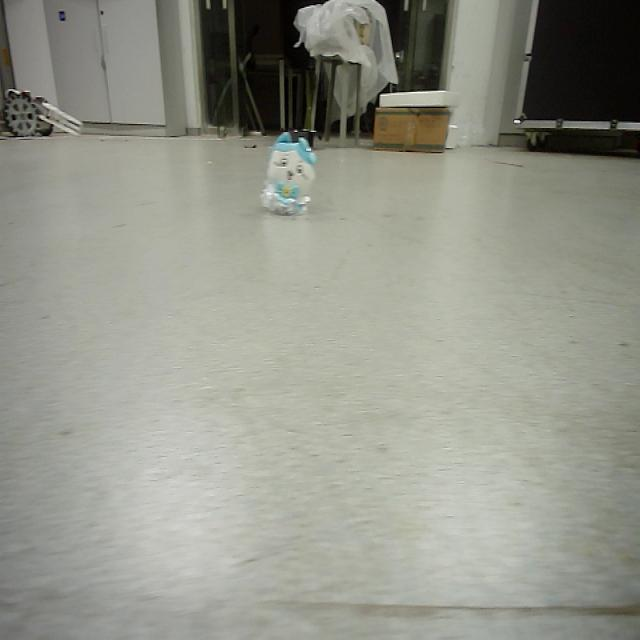xiaoba: (260, 130, 316, 222)
